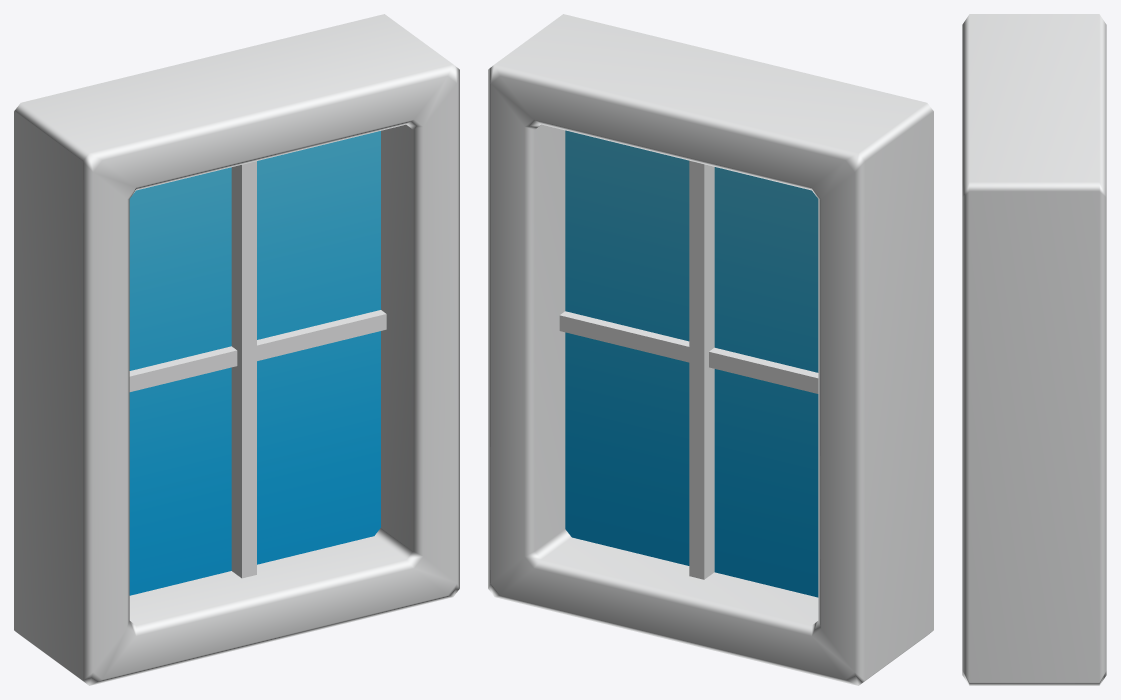
The model's file is Window_White_09.glb.
3 views of the same model, side by side, from view 1: azimuth 30°, elevation 25°; view 2: azimuth 150°, elevation 25°; view 3: azimuth 270°, elevation 25° (orthographic). The views are drawn at different scales.
Parts seen in each view (by area): view 1: Window_White_09; view 2: Window_White_09; view 3: Window_White_09.
Part boxes in pixels (left/top/right/bottom): Window_White_09: left=14, top=14, right=459, bottom=685; Window_White_09: left=488, top=14, right=933, bottom=685; Window_White_09: left=962, top=14, right=1106, bottom=685.
Size of the model in its own units: 1.14 by 1.54 by 0.4.
2 materials, 2 textured.
